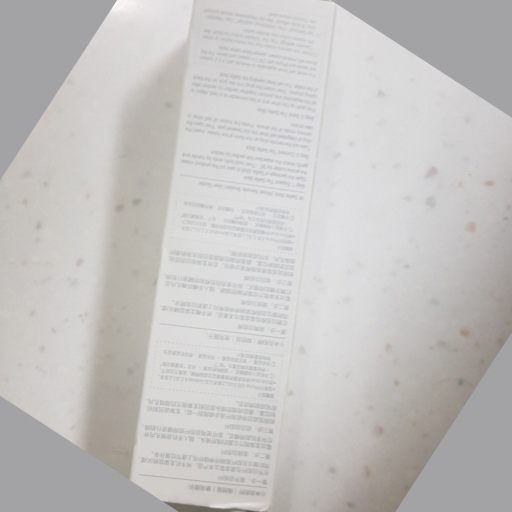Paper_0: (127, 2, 341, 512)
